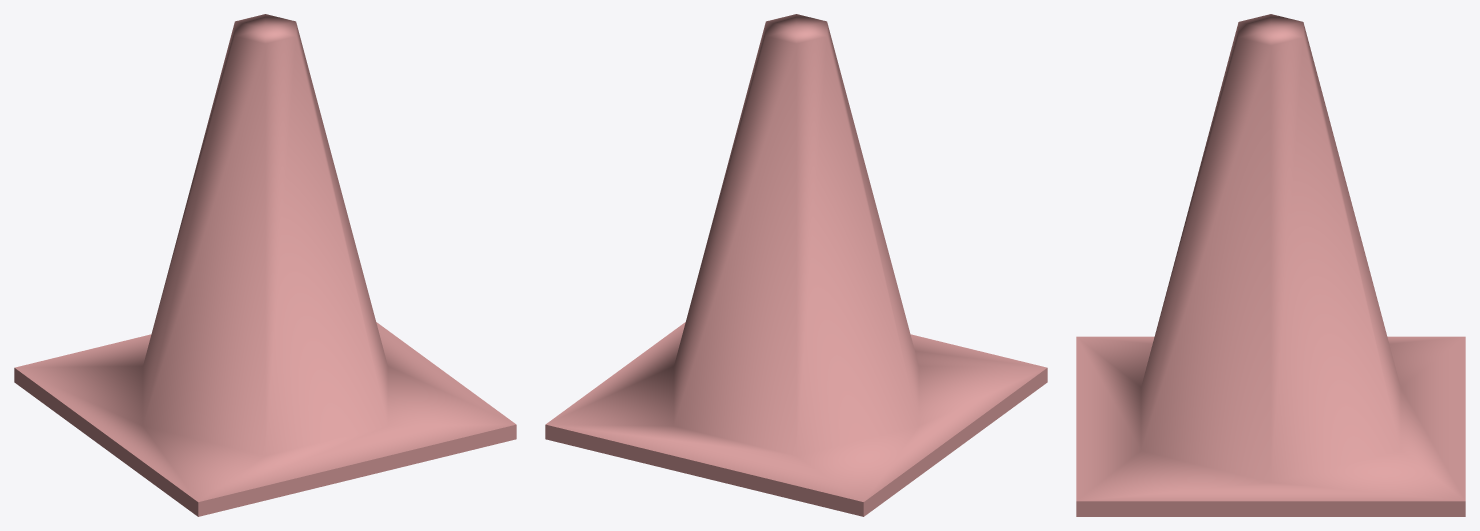
Rendered from Traffic_Cone_Small_A_COL.fbx.
3 renders of one model, left to right at view 1: azimuth 30°, elevation 25°; view 2: azimuth 150°, elevation 25°; view 3: azimuth 270°, elevation 25°, orthographic. The views are drawn at different scales.
Parts seen in each view (by area): view 1: Cone_Small_A_COL; view 2: Cone_Small_A_COL; view 3: Cone_Small_A_COL.
Boxes of the visible parts, box(x1,y1,x2,y2) form: Cone_Small_A_COL: box(14, 14, 516, 516); Cone_Small_A_COL: box(545, 14, 1047, 516); Cone_Small_A_COL: box(1076, 14, 1465, 516).
Bounding box in the file's own units: 49.37 × 56.6 × 49.37.
